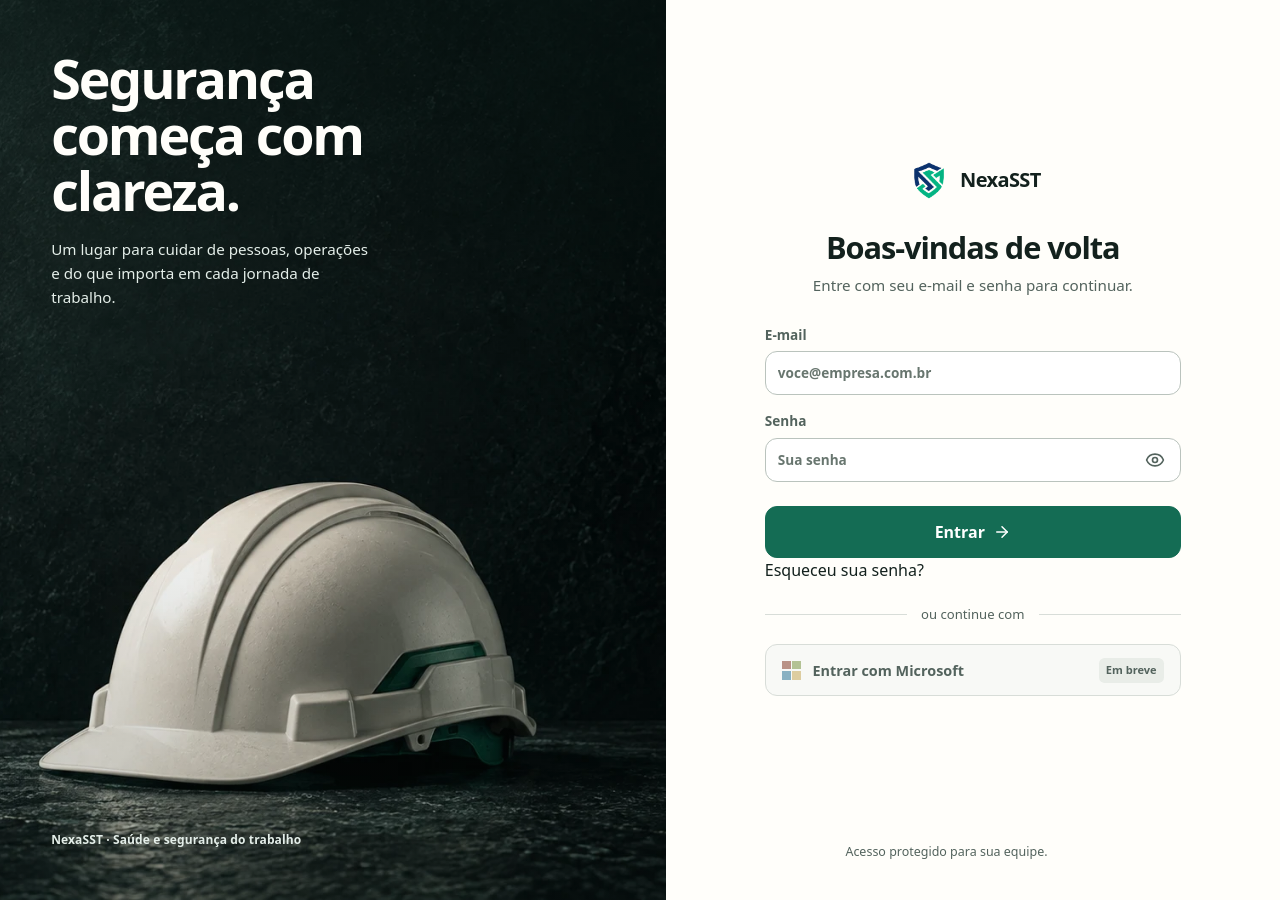
login comum não divulga Master e alterna a senha sem apagar o valor
Type "senha-exemplo" into the password field with placeholder "Sua senha". click: [973, 460]
box: [765,438,1181,482]
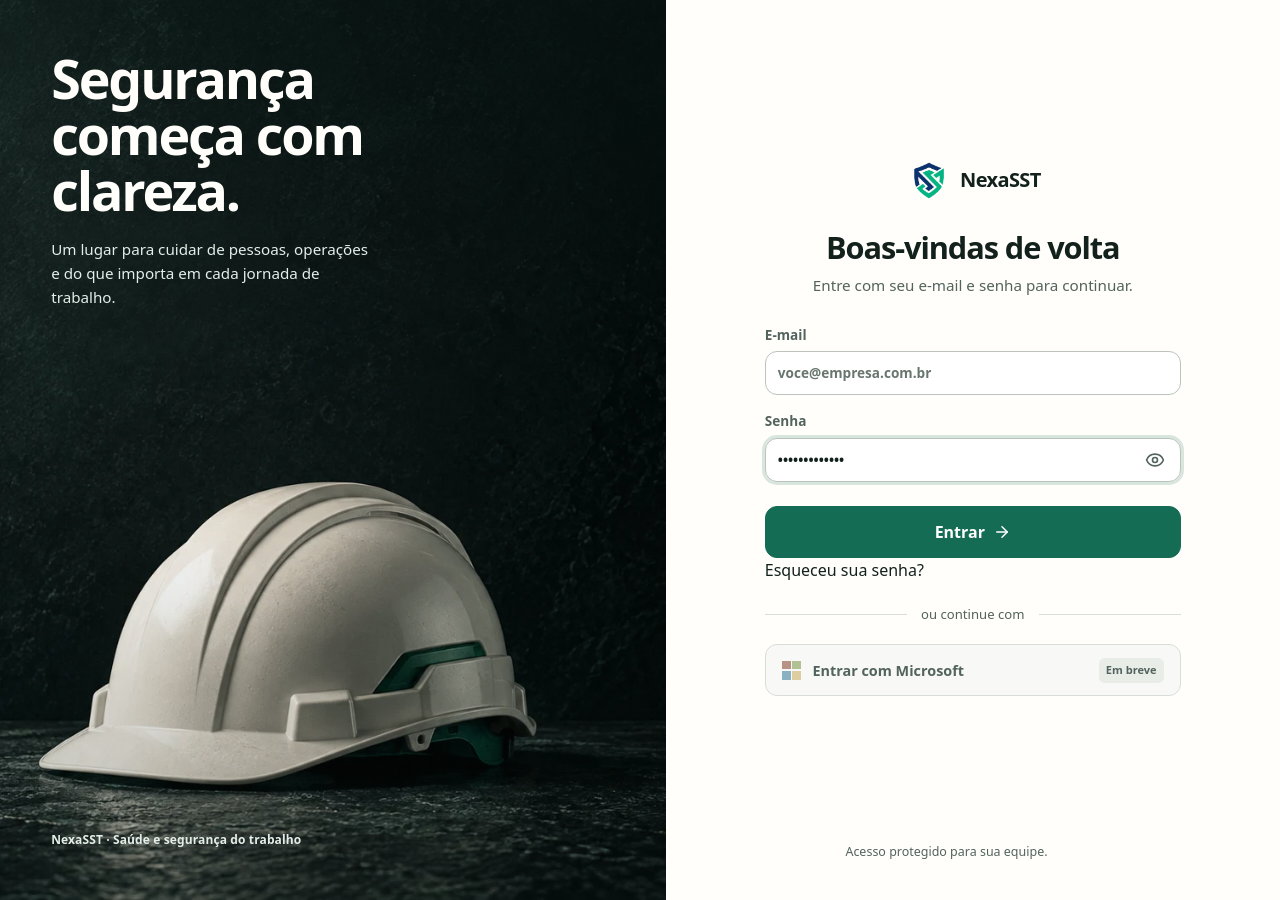
Click the button named "Mostrar senha". click: [1155, 460]
box: [1133,438,1177,482]
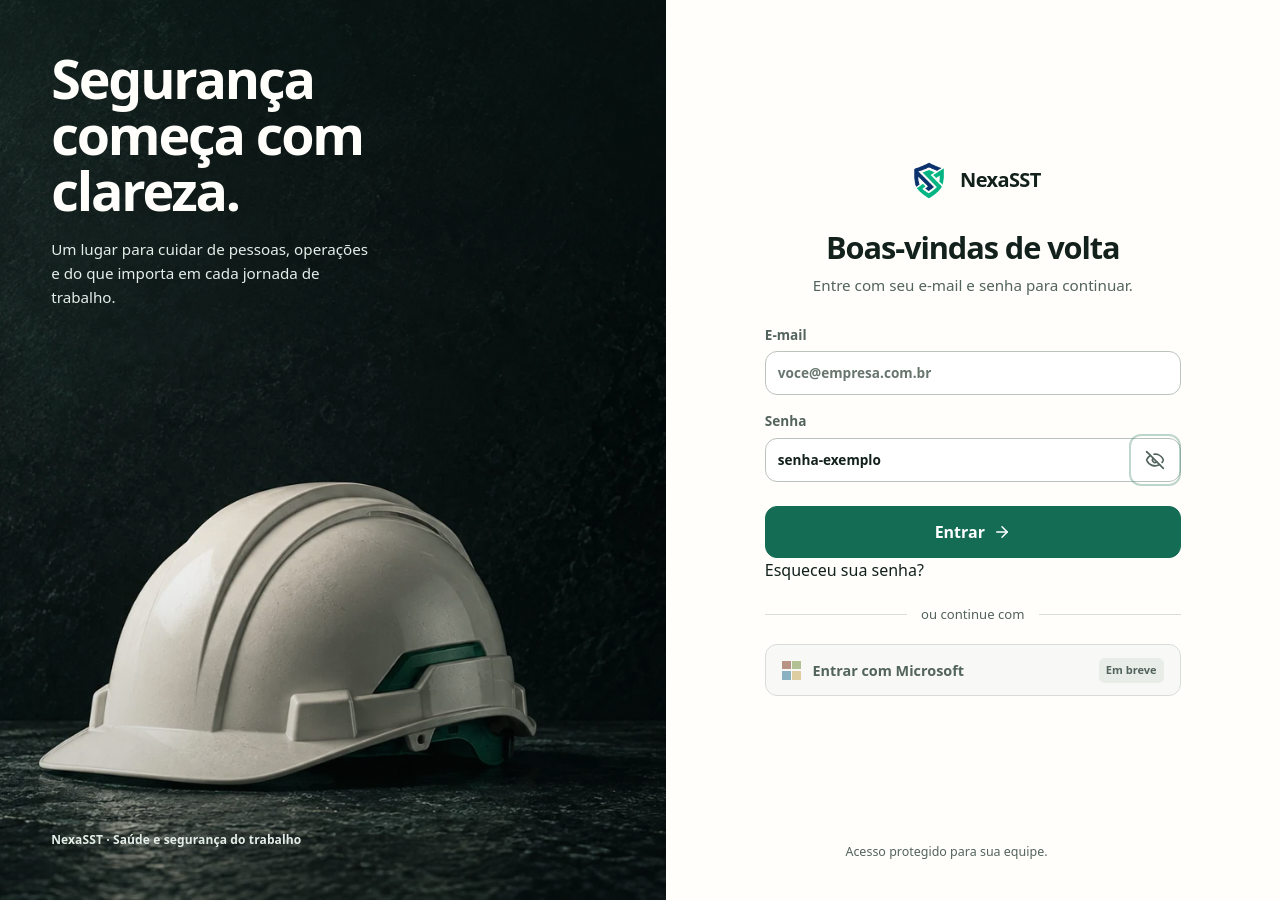
Check: the field with placeholder "Sua senha" shows its text, box [765,438,1181,482]
Click the button named "Ocultar senha". click: [1155, 460]
box: [1133,438,1177,482]
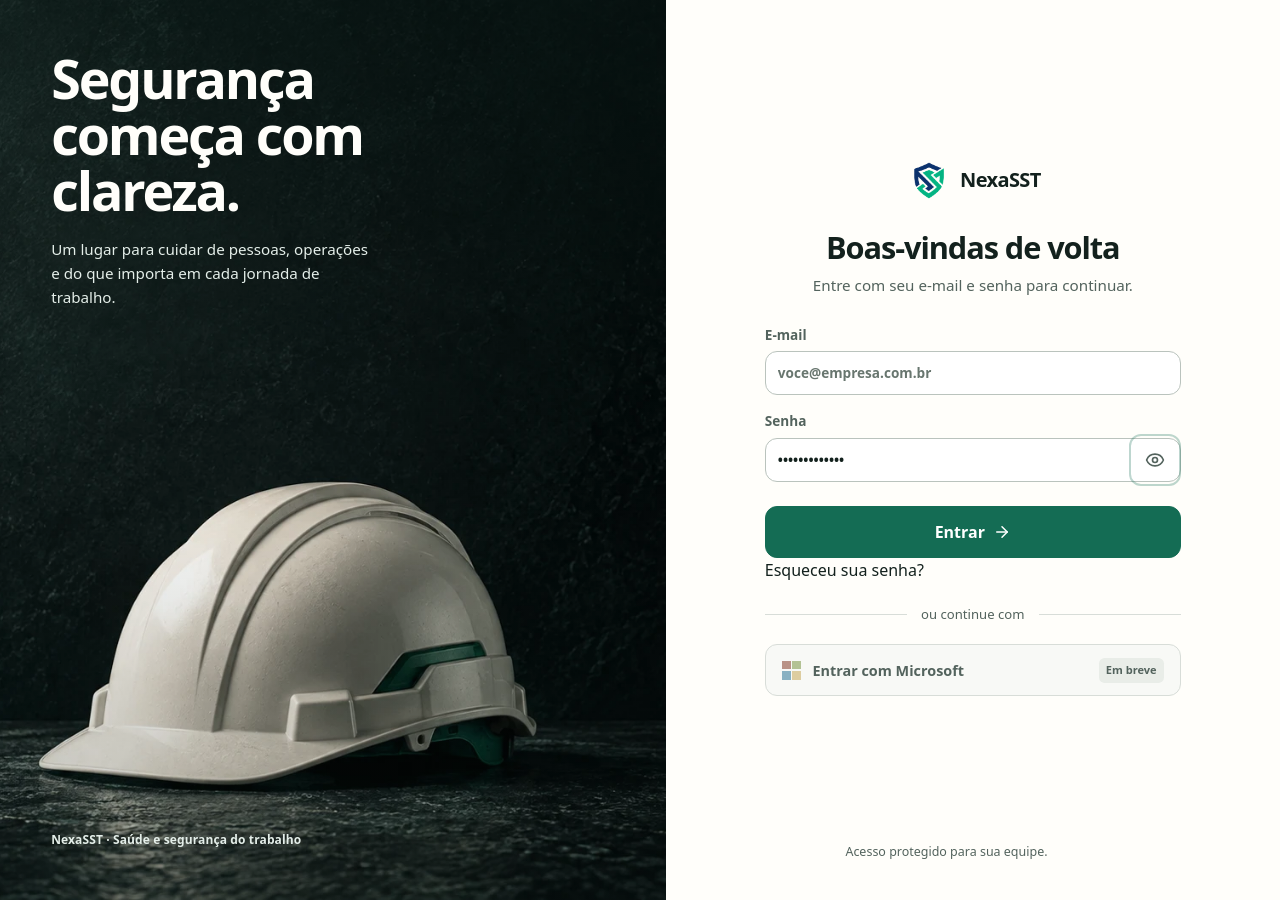
Check: the password field with placeholder "Sua senha" hides its text, box [765,438,1181,482]
